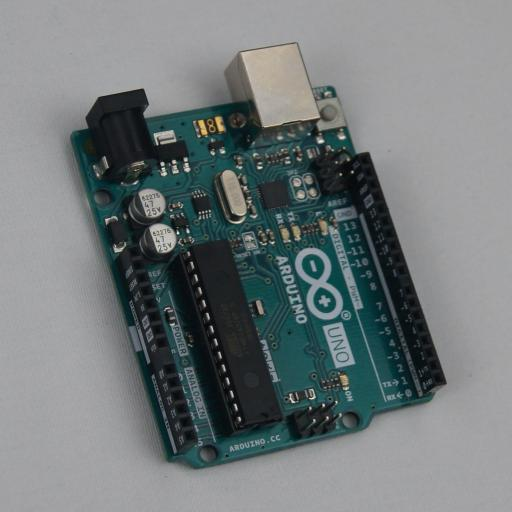Arduino Uno -Green-: (70, 42, 447, 469)
